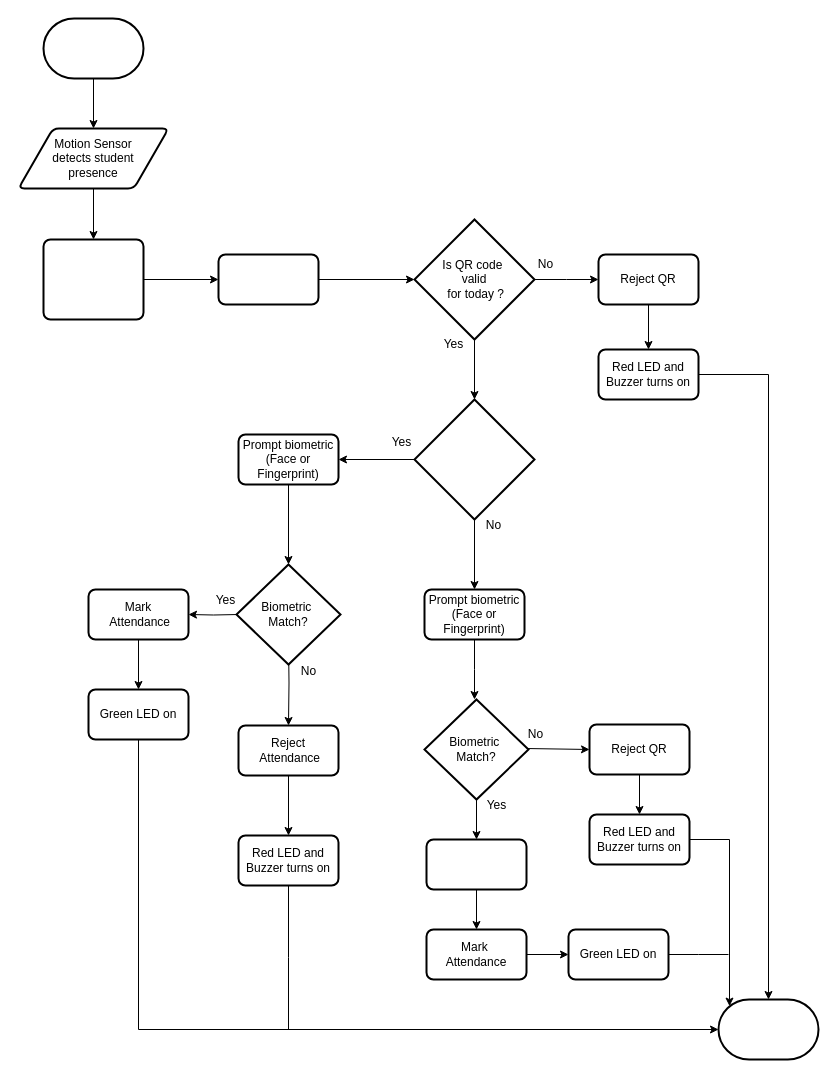
The diagram is 836 pixels wide and 1077 high, and some of its shapes have lost their labels. Each missing label, with the centre of its shape:
"Assign QR to student" goes at (x=476, y=864).
"Is QR code assigned ?" goes at (x=474, y=459).
"Scan QR scan" goes at (x=268, y=279).
"Start" goes at (x=93, y=48).
"Stop" goes at (x=768, y=1029).
"System power on automatically" goes at (x=93, y=279).
